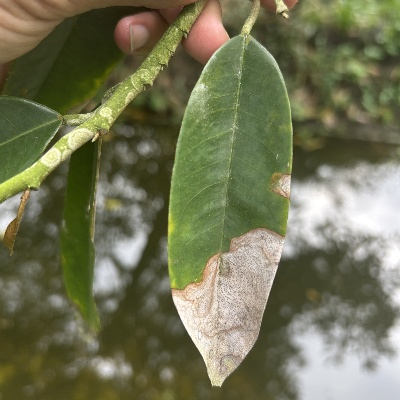Leaf_Colletotrichum: (166, 7, 294, 388)
